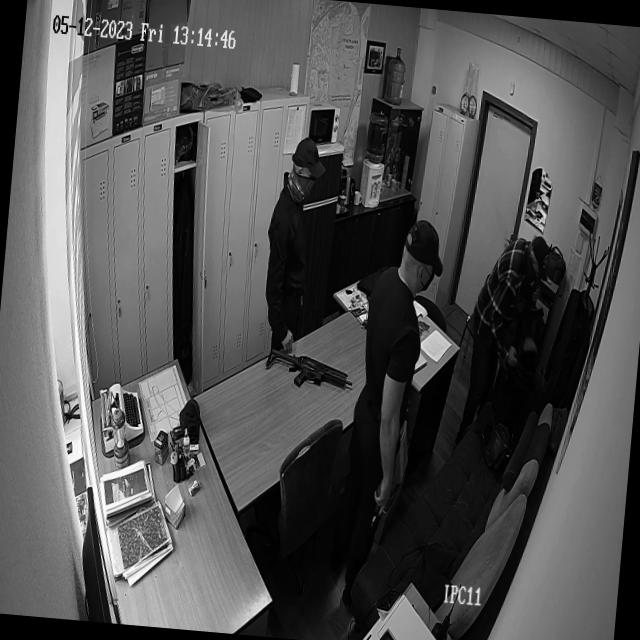gun: (264, 346, 355, 396), (370, 483, 388, 530)
person with a gun: (350, 210, 444, 574), (262, 106, 336, 383)
